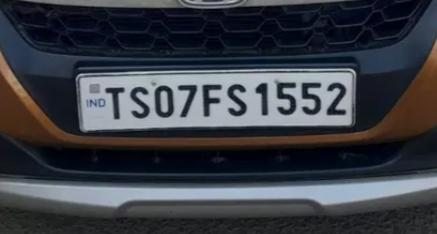0: (152, 82, 177, 123)
1: (256, 77, 270, 121)
2: (326, 78, 350, 120)
5: (299, 76, 323, 119), (275, 77, 298, 121)
7: (173, 80, 201, 119)
F: (200, 80, 225, 120)
S: (126, 82, 152, 125), (224, 77, 250, 120)
T: (103, 83, 128, 124)
